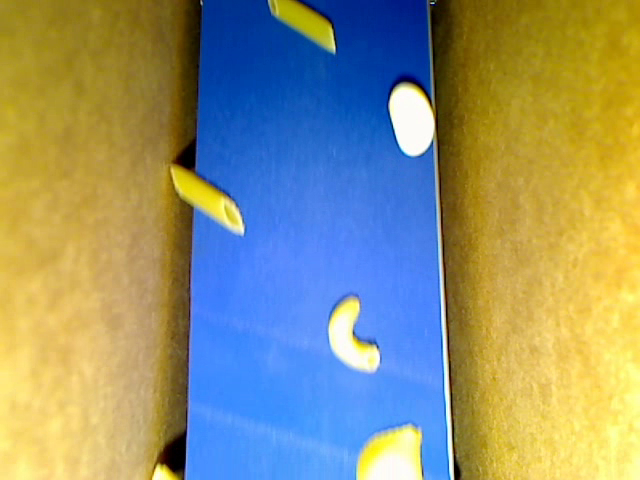elbow: (326, 294, 381, 374)
penne: (169, 163, 244, 236), (267, 1, 336, 54)
shell: (355, 422, 424, 479)
